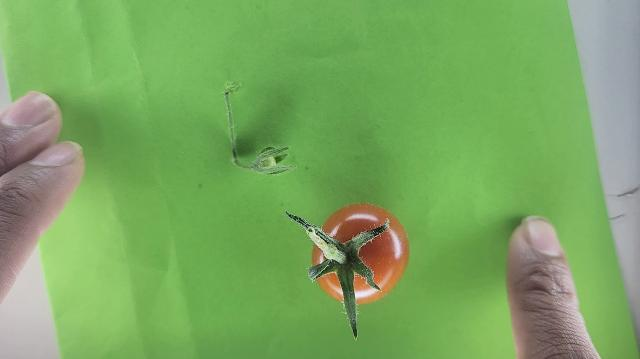Fruit Bud: (255, 146, 290, 169), (261, 156, 275, 168)
Fully Grown: (312, 203, 412, 307)
